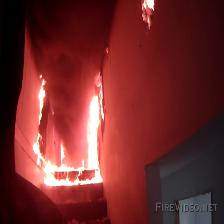fire: (25, 44, 142, 199), (126, 0, 172, 33)
